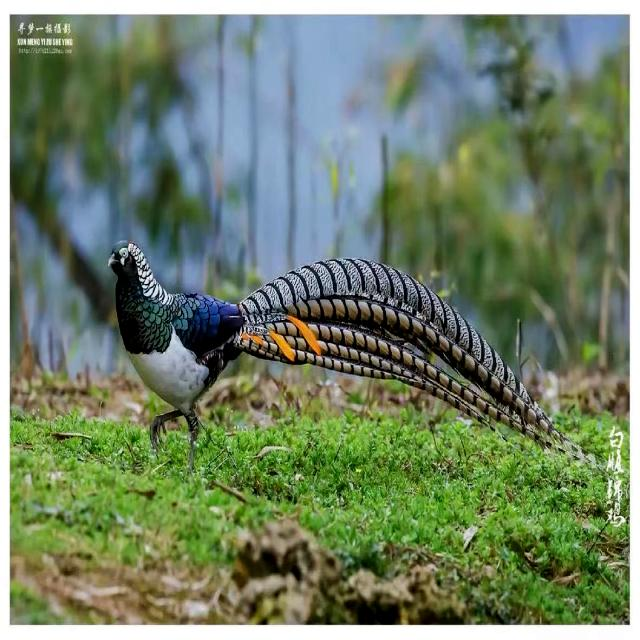Chrysolophus amherstiae: (238, 258, 591, 458)
